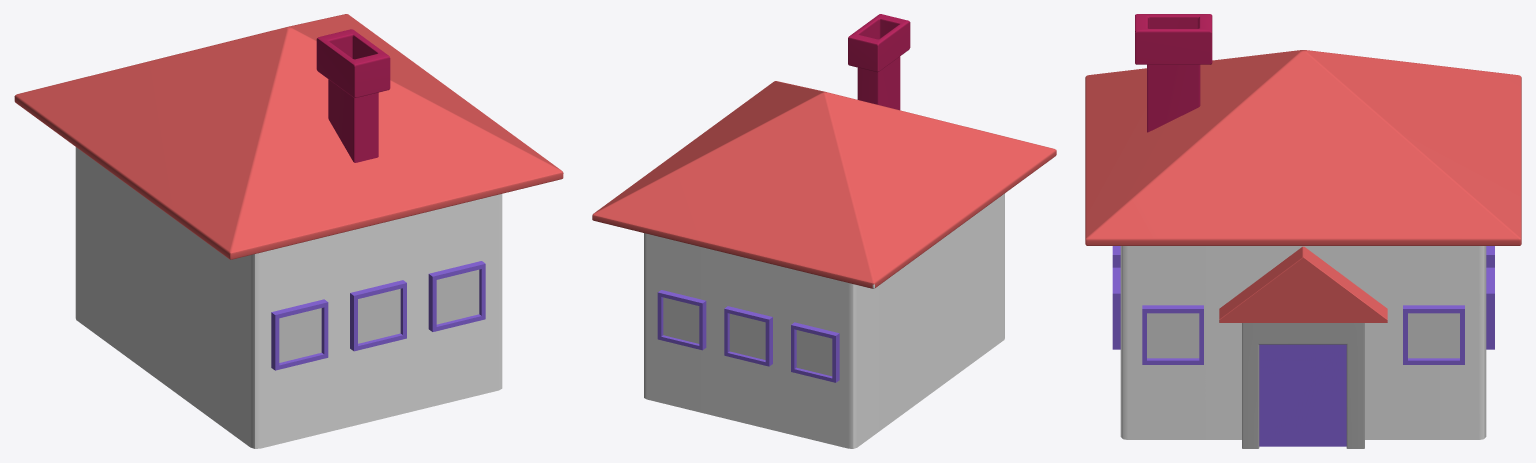
File: house.fbx
The picture shows the model from 3 angles, left to right: view 1: azimuth 30°, elevation 25°; view 2: azimuth 150°, elevation 25°; view 3: azimuth 270°, elevation 25°; orthographic projection. The views are drawn at different scales.
Visible parts, largest first — view 1: house_red_mesh; view 2: house_red_mesh; view 3: house_red_mesh.
Boxes of the visible parts, x1,y1,x2,y2 form: house_red_mesh: [14, 14, 563, 448]; house_red_mesh: [592, 14, 1056, 448]; house_red_mesh: [1085, 14, 1521, 448].
Bounding box in the file's own units: 4.83 × 4.89 × 5.42.
